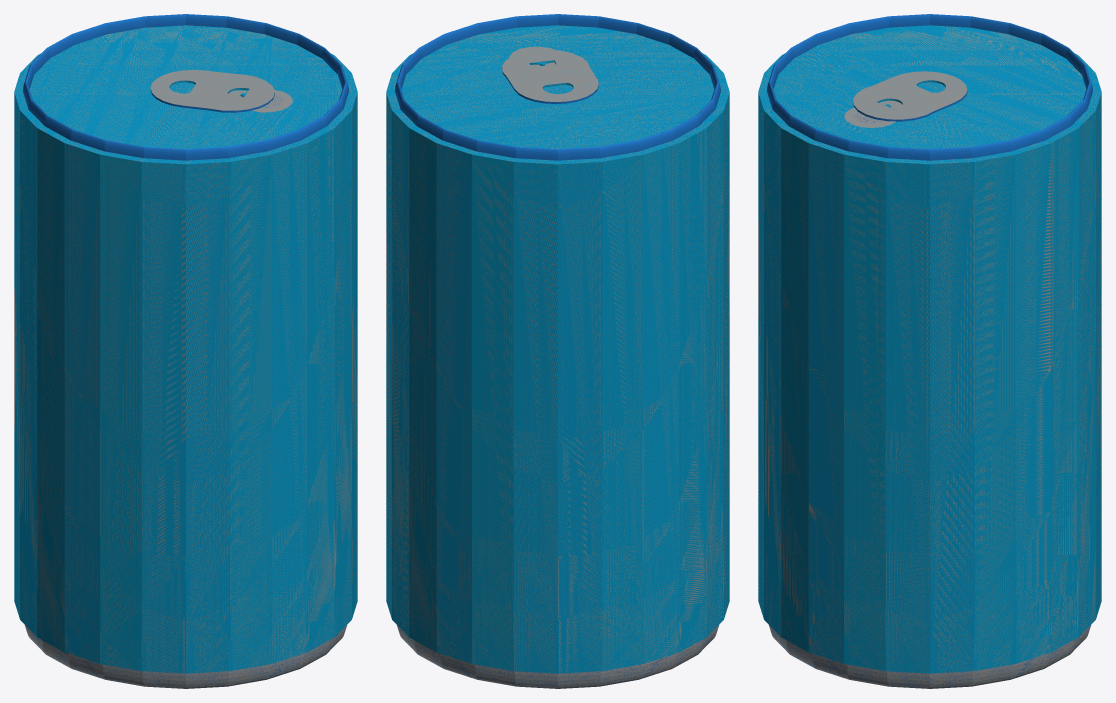
3 renders of one model, left to right at view 1: azimuth 30°, elevation 25°; view 2: azimuth 150°, elevation 25°; view 3: azimuth 270°, elevation 25°, orthographic.
Parts seen in each view (by area): view 1: mesh1_mesh1-geometry, mesh3_mesh3-geometry, mesh2_mesh2-geometry, mesh4_mesh4-geometry; view 2: mesh1_mesh1-geometry, mesh3_mesh3-geometry, mesh2_mesh2-geometry, mesh4_mesh4-geometry; view 3: mesh1_mesh1-geometry, mesh3_mesh3-geometry, mesh2_mesh2-geometry, mesh4_mesh4-geometry.
Boxes of the visible parts, left/top/right/bottom form: mesh1_mesh1-geometry: left=14, top=25, right=357, bottom=673; mesh3_mesh3-geometry: left=23, top=14, right=348, bottom=160; mesh2_mesh2-geometry: left=25, top=625, right=346, bottom=688; mesh4_mesh4-geometry: left=150, top=70, right=274, bottom=112; mesh1_mesh1-geometry: left=386, top=25, right=729, bottom=673; mesh3_mesh3-geometry: left=395, top=14, right=720, bottom=160; mesh2_mesh2-geometry: left=397, top=625, right=718, bottom=688; mesh4_mesh4-geometry: left=502, top=49, right=598, bottom=103; mesh1_mesh1-geometry: left=758, top=25, right=1101, bottom=673; mesh3_mesh3-geometry: left=767, top=14, right=1092, bottom=160; mesh2_mesh2-geometry: left=769, top=625, right=1090, bottom=688; mesh4_mesh4-geometry: left=853, top=71, right=967, bottom=121.
Bounding box in the file's own units: 0.447 × 0.7748 × 0.447.
